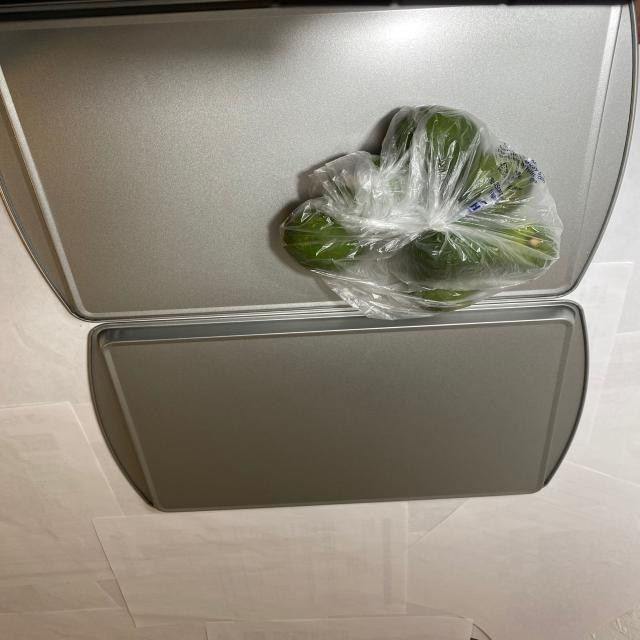lemon: (282, 107, 552, 307)
